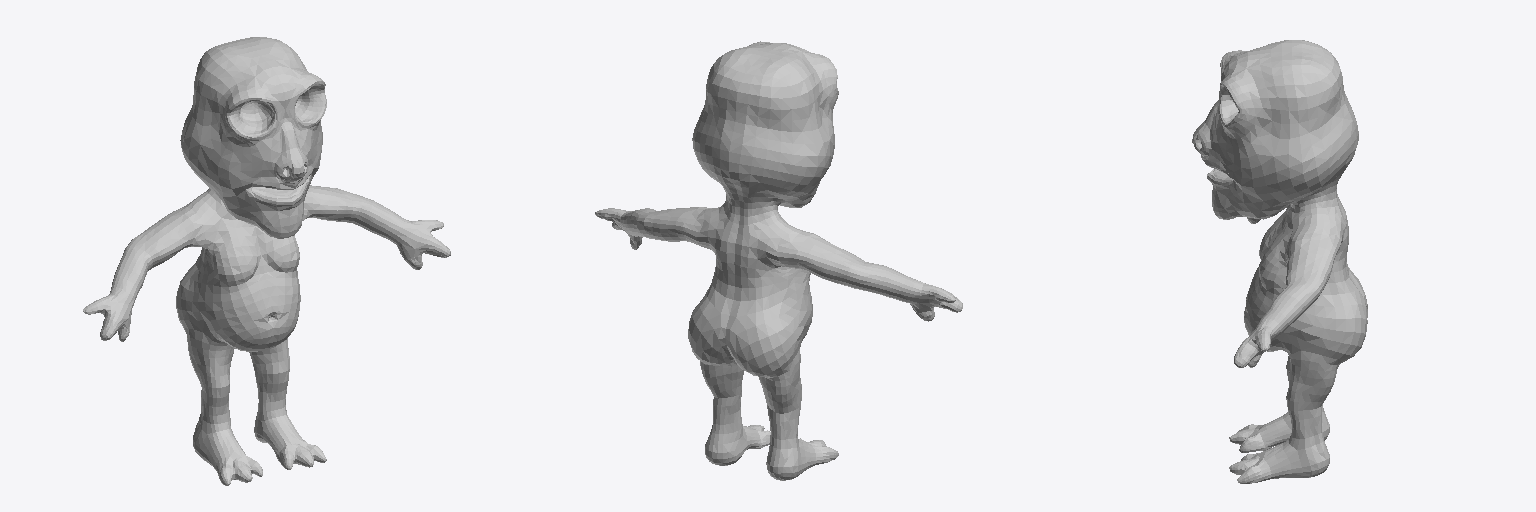
Rendered from miner man 1.OBJ.
3 views of the same model, side by side, from view 1: azimuth 30°, elevation 25°; view 2: azimuth 150°, elevation 25°; view 3: azimuth 270°, elevation 25° (orthographic).
Parts seen in each view (by area): view 1: Group1; view 2: Group1; view 3: Group1.
Boxes of the visible parts, x1,y1,x2,y2 form: Group1: [83, 37, 450, 485]; Group1: [595, 41, 962, 480]; Group1: [1192, 40, 1367, 483].
Size of the model in its own units: 9.75 by 10.6 by 4.12.